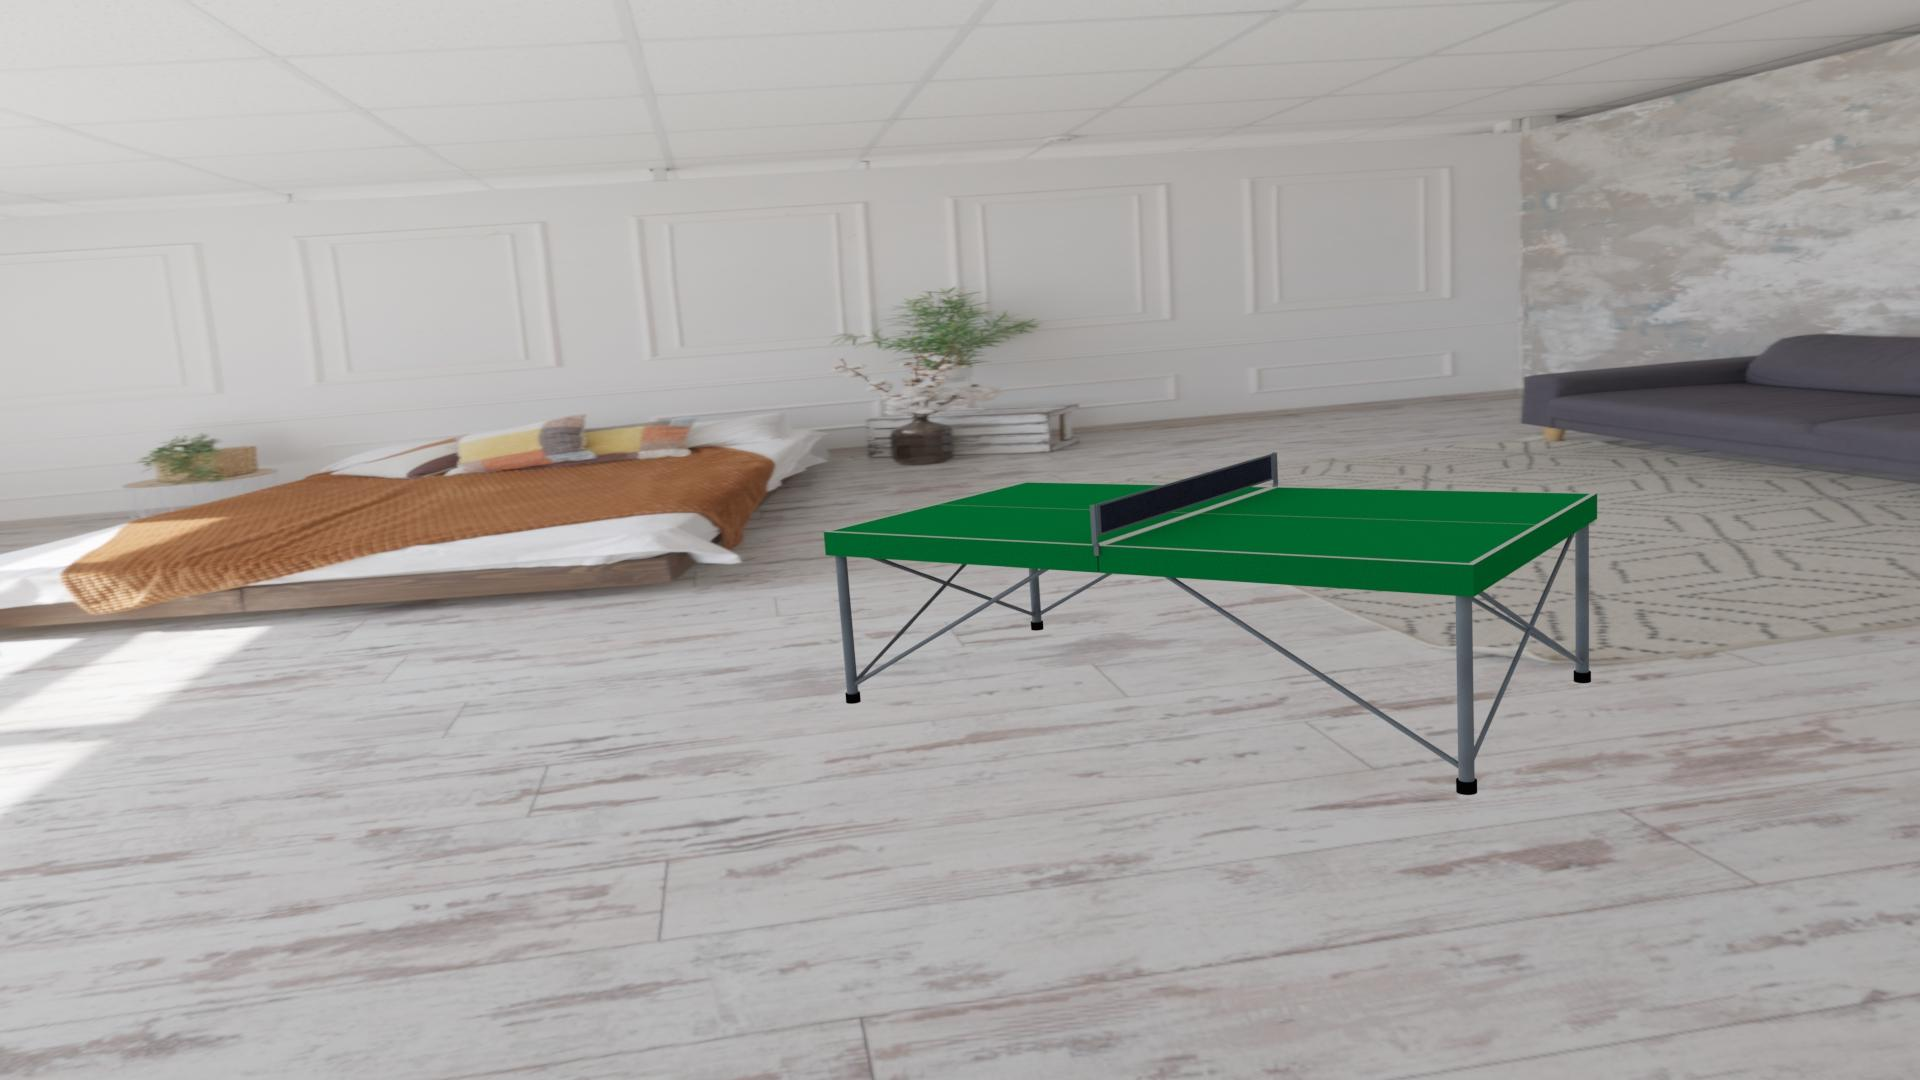table: (831, 483, 1590, 563)
